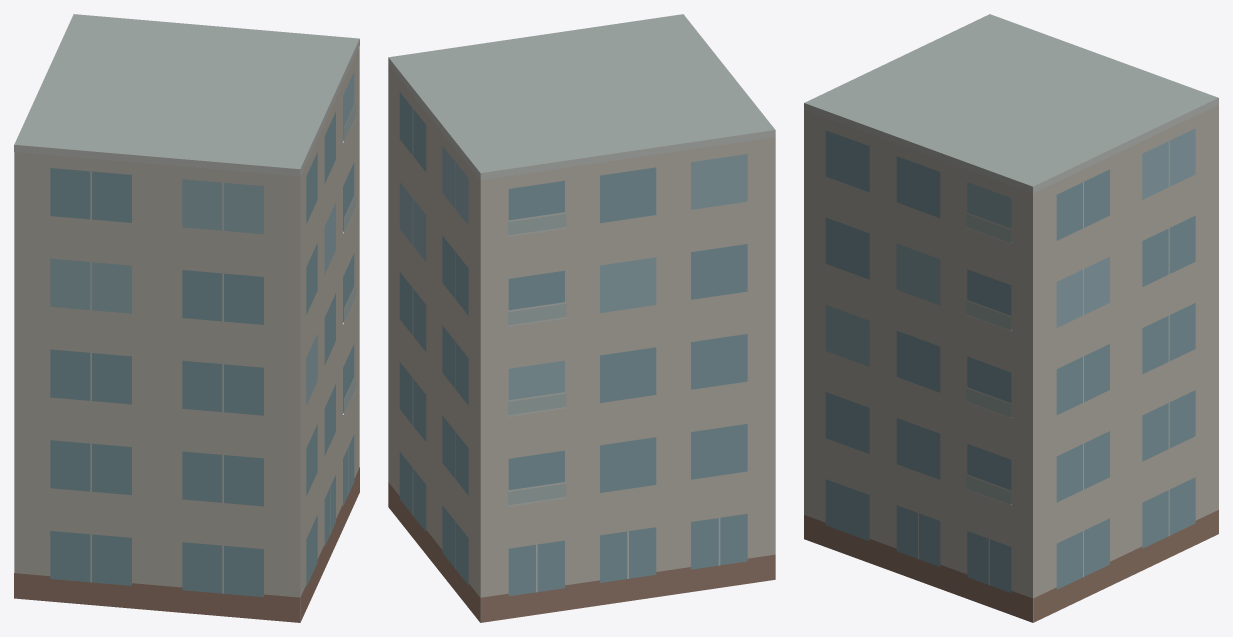
Rendered from survey-upis-32959671.glb.
3 views of the same model, side by side, from view 1: azimuth 30°, elevation 25°; view 2: azimuth 150°, elevation 25°; view 3: azimuth 270°, elevation 25° (orthographic). The views are drawn at different scales.
Parts seen in each view (by area): view 1: survey-upis-32959671.tmp; view 2: survey-upis-32959671.tmp; view 3: survey-upis-32959671.tmp.
Boxes of the visible parts, bbox=[...] form: survey-upis-32959671.tmp: bbox=[14, 14, 359, 622]; survey-upis-32959671.tmp: bbox=[388, 14, 775, 622]; survey-upis-32959671.tmp: bbox=[804, 14, 1218, 622].
Size of the model in its own units: 13.17 by 15.5 by 13.37.
